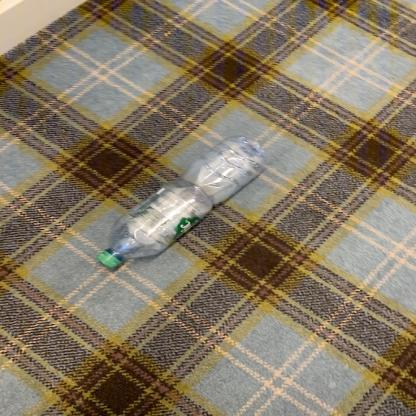trash: (98, 134, 266, 270)
